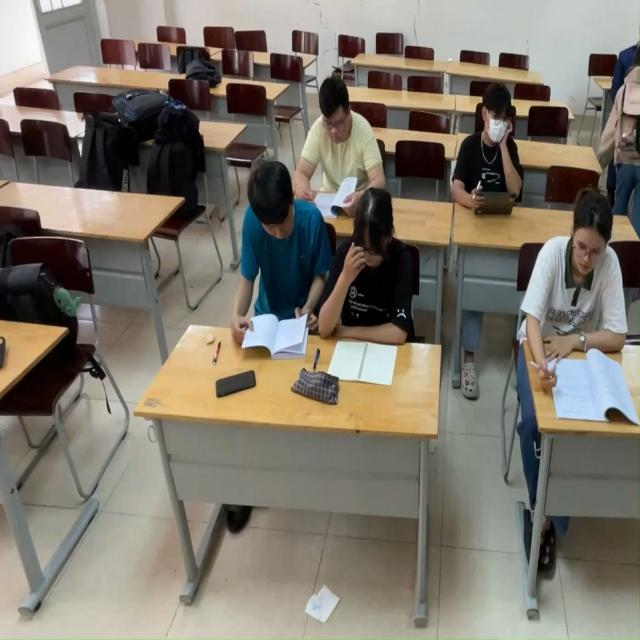read: (523, 189, 640, 424), (322, 195, 427, 380), (238, 158, 320, 380), (455, 84, 539, 236), (304, 77, 375, 213)
